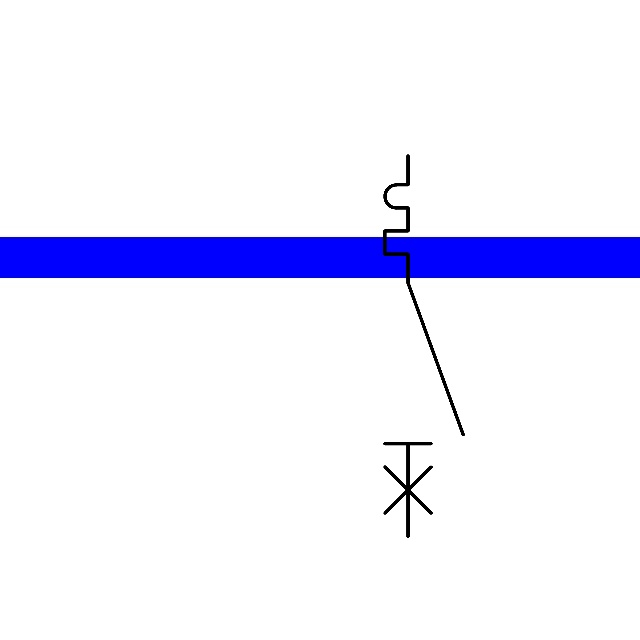interruptor_termomagnetico: (375, 146, 473, 546)
